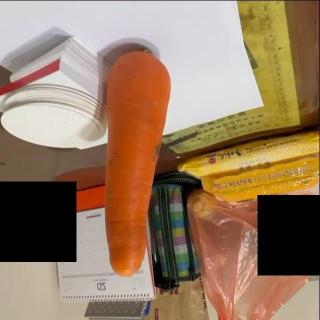carrot: (105, 49, 173, 278)
